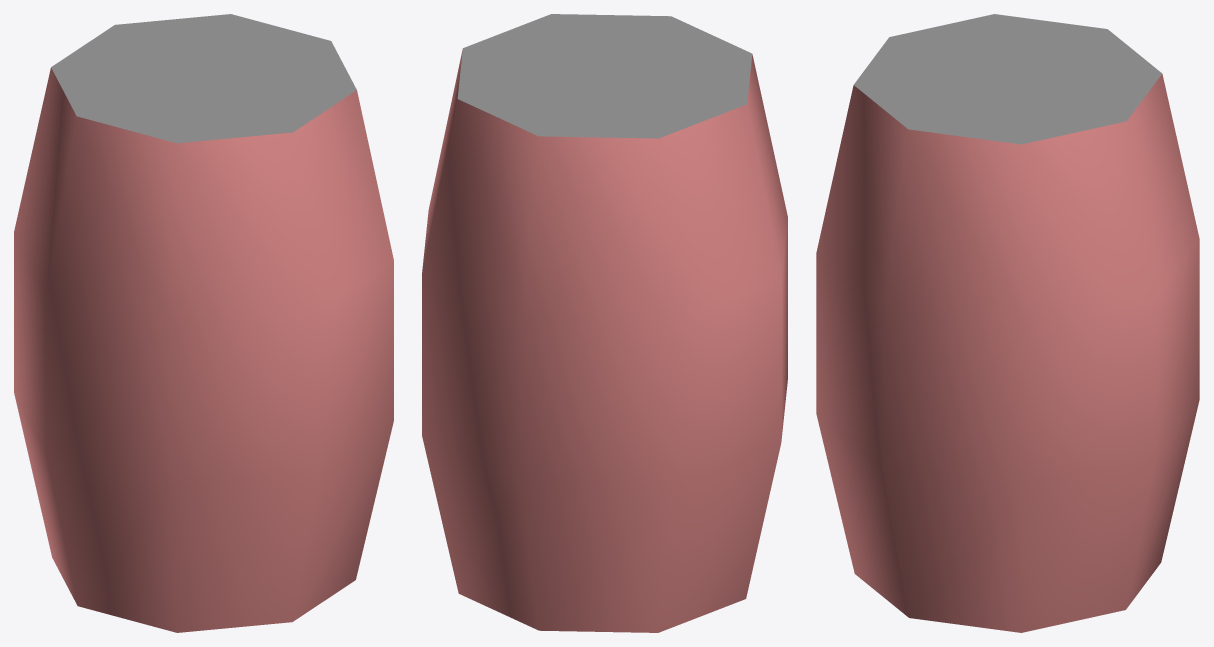
The model's file is V_Obj_S__O_Tank01.gltf.
The picture shows the model from 3 angles, left to right: view 1: azimuth 30°, elevation 25°; view 2: azimuth 150°, elevation 25°; view 3: azimuth 270°, elevation 25°; orthographic projection.
Parts seen in each view (by area): view 1: O_Tank01; view 2: O_Tank01; view 3: O_Tank01.
Part boxes in pixels (box(x1,y1,x2,y2)): O_Tank01: box(14, 14, 393, 632); O_Tank01: box(422, 14, 787, 632); O_Tank01: box(816, 14, 1199, 632).
Bounding box in the file's own units: 0.1863 × 0.2623 × 0.1863.
